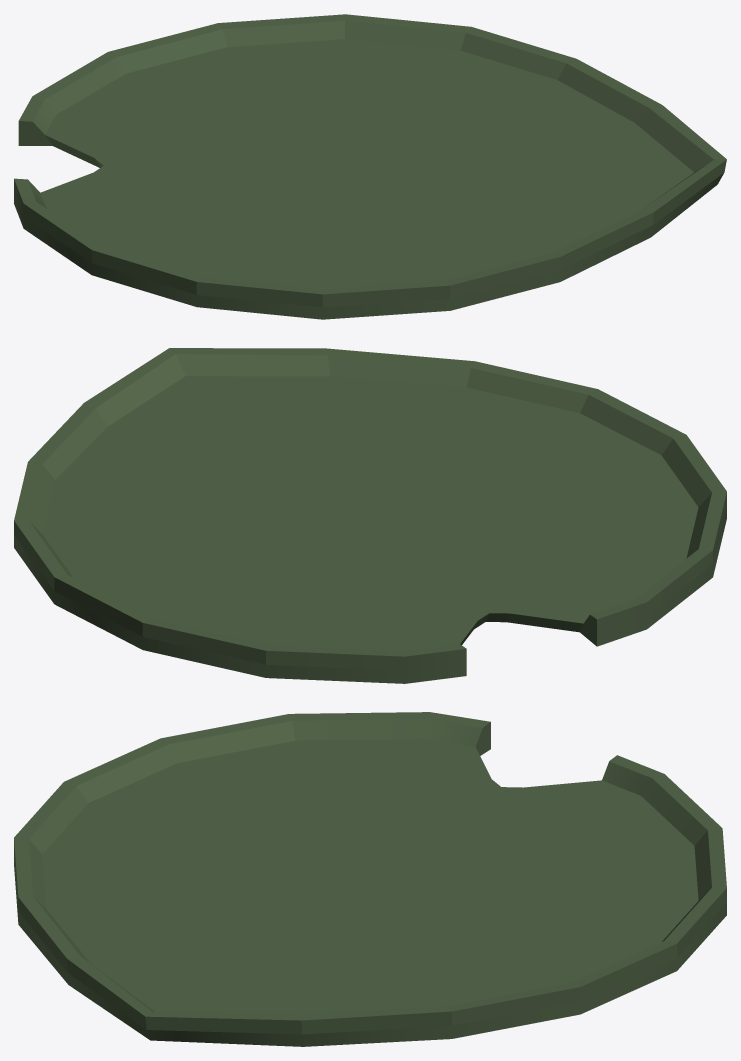
The model's file is LilypadPointy.fbx.
The picture shows the model from 3 angles, top to bottom: view 1: azimuth 30°, elevation 25°; view 2: azimuth 150°, elevation 25°; view 3: azimuth 270°, elevation 25°; orthographic projection. The views are drawn at different scales.
Visible parts, largest first — view 1: pCylinder2; view 2: pCylinder2; view 3: pCylinder2.
Boxes of the visible parts, bbox=[...] form: pCylinder2: bbox=[14, 14, 726, 319]; pCylinder2: bbox=[14, 348, 726, 683]; pCylinder2: bbox=[14, 712, 726, 1046].
Size of the model in its own units: 4.85 by 0.2016 by 4.74.
